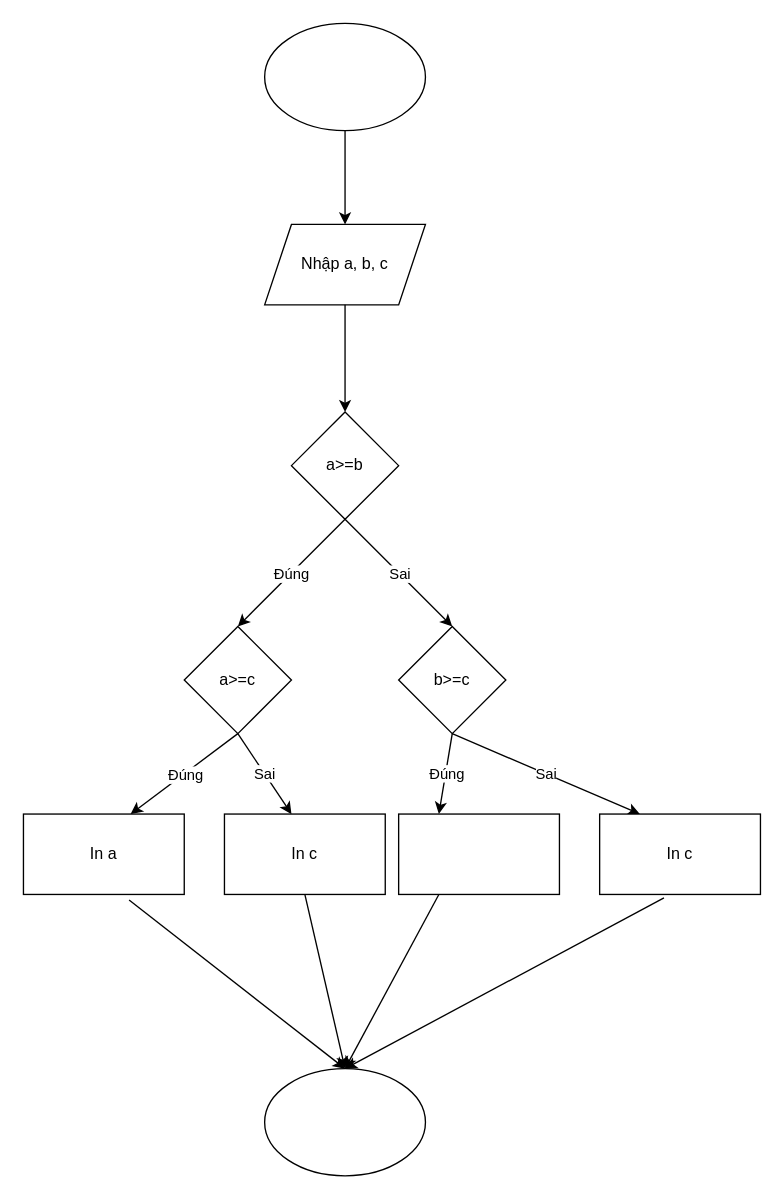
Some shapes in this 784 by 1199 pixel diagram are drawn without their labels. Each missing label, with the centre of its shape:
Bắt đầu: point 344,76
In b: point 478,853
Kết thúc: point 344,1121
